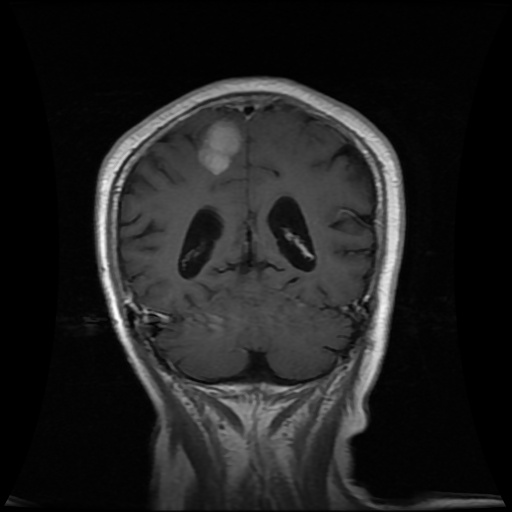meningioma: (200, 118, 243, 174)
